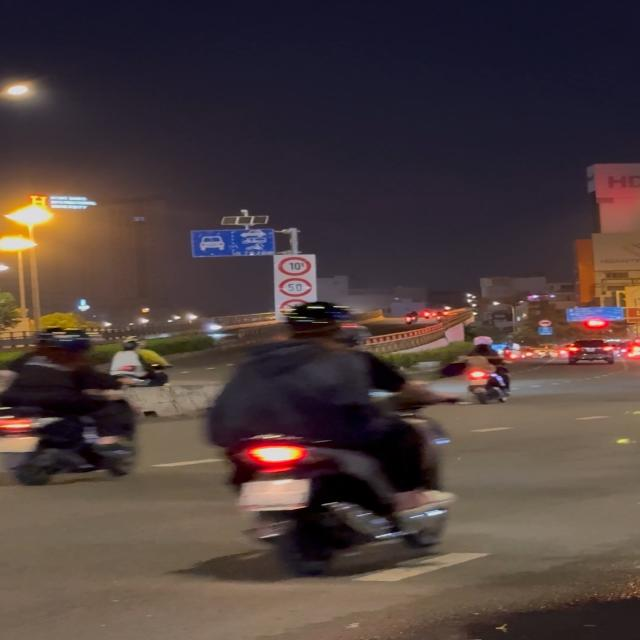Bien bao toc do toi da cho phep: (280, 277, 314, 297)
